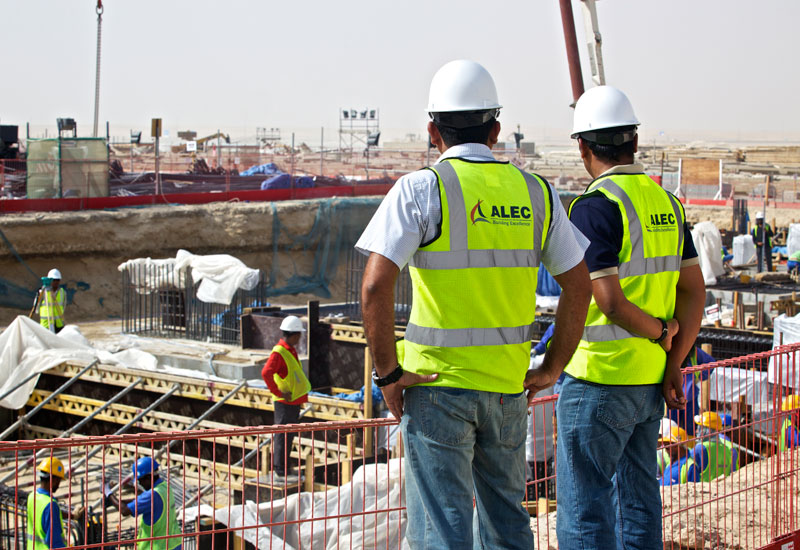epi: (356, 54, 592, 550), (551, 83, 703, 550), (259, 313, 313, 479), (102, 455, 179, 550), (19, 457, 75, 550), (681, 411, 737, 484), (30, 265, 69, 336), (658, 429, 696, 485), (751, 213, 776, 273), (780, 393, 800, 447), (656, 420, 680, 455)
